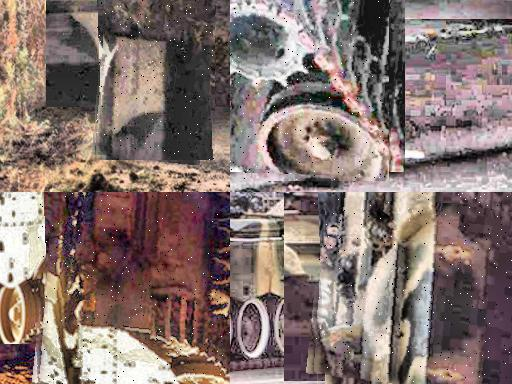tanks: (314, 193, 512, 384), (40, 193, 231, 384), (231, 1, 390, 181), (97, 1, 215, 161), (269, 193, 478, 245)
